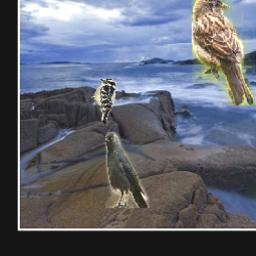Crow: (105, 132, 150, 208)
Sparrow: (191, 0, 254, 105)
Woodpecker: (87, 77, 116, 126)
